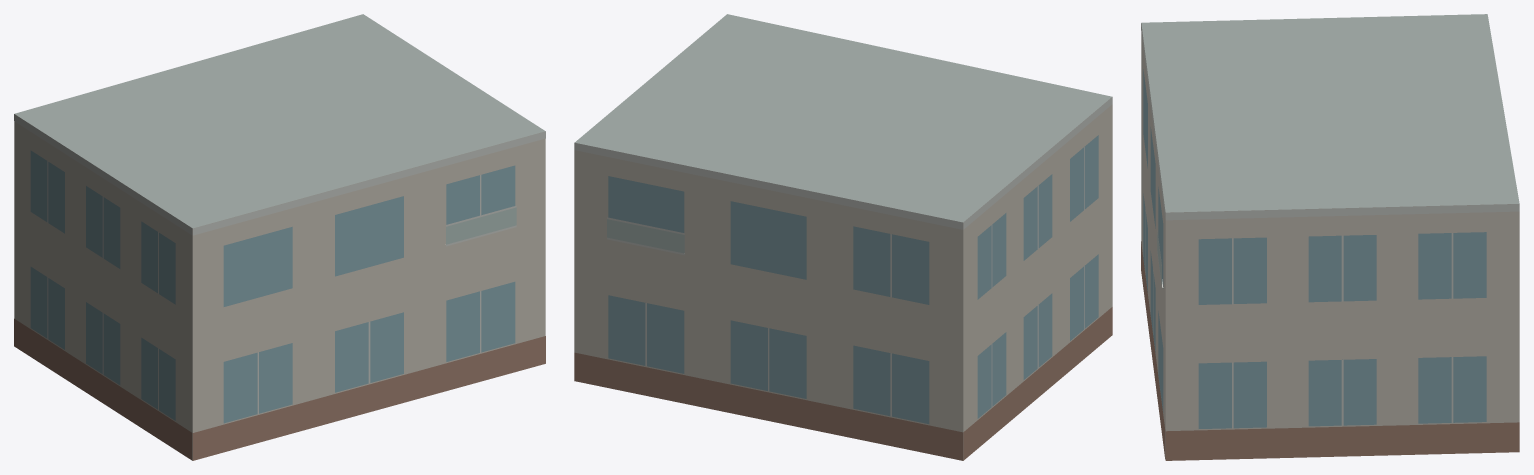
Rendered from survey-upis-32539536.glb.
3 renders of one model, left to right at view 1: azimuth 30°, elevation 25°; view 2: azimuth 150°, elevation 25°; view 3: azimuth 270°, elevation 25°, orthographic. The views are drawn at different scales.
Visible parts, largest first — view 1: survey-upis-32539536.tmp; view 2: survey-upis-32539536.tmp; view 3: survey-upis-32539536.tmp.
Part boxes in pixels (bbox=[...]): survey-upis-32539536.tmp: bbox=[14, 14, 545, 460]; survey-upis-32539536.tmp: bbox=[574, 14, 1112, 460]; survey-upis-32539536.tmp: bbox=[1141, 14, 1519, 460].
Bounding box in the file's own units: 13.39 × 7.8 × 10.78.
